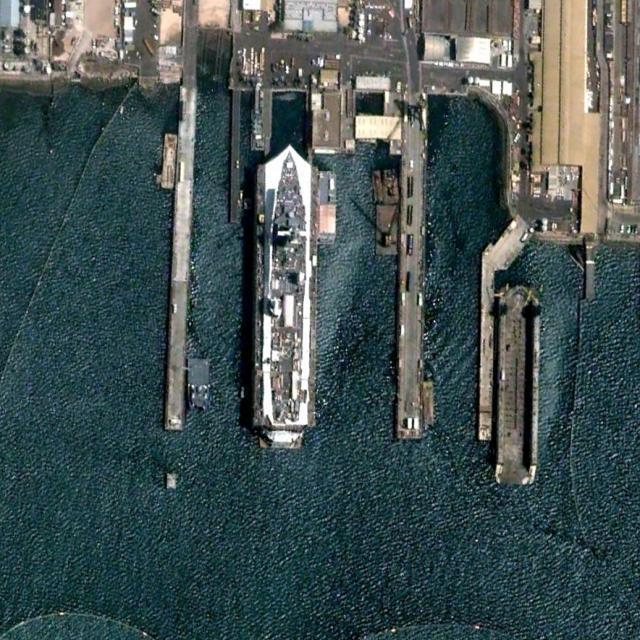Landing: (268, 150, 308, 421)
